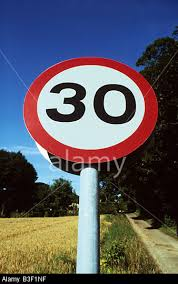Speed_limit_30km: (23, 54, 158, 162)
